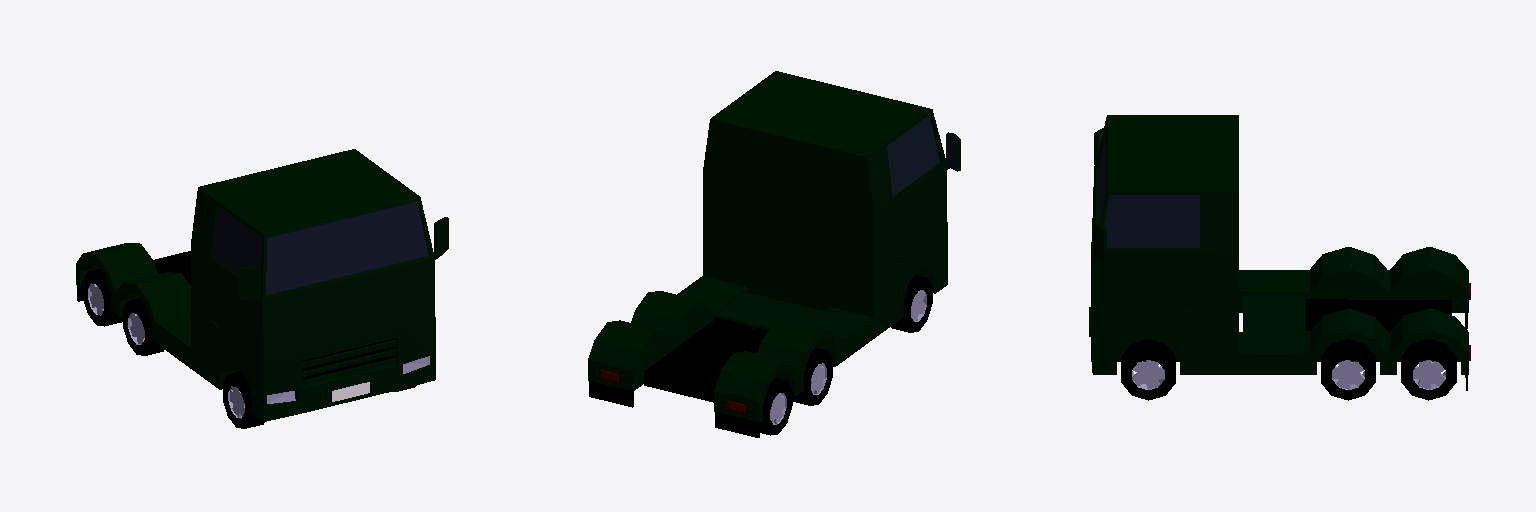
File: truck.obj
3 renders of one model, left to right at view 1: azimuth 30°, elevation 25°; view 2: azimuth 150°, elevation 25°; view 3: azimuth 270°, elevation 25°, orthographic.
Visible parts, largest first — view 1: Truck.001; view 2: Truck.001; view 3: Truck.001.
Part boxes in pixels (bbox=[...]): Truck.001: bbox=[76, 149, 448, 428]; Truck.001: bbox=[588, 71, 960, 437]; Truck.001: bbox=[1089, 115, 1470, 400].
Size of the model in its own units: 3.41 by 3.21 by 5.38.